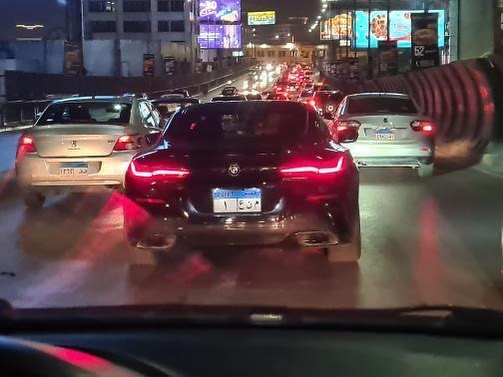carpl: (210, 188, 263, 214)
